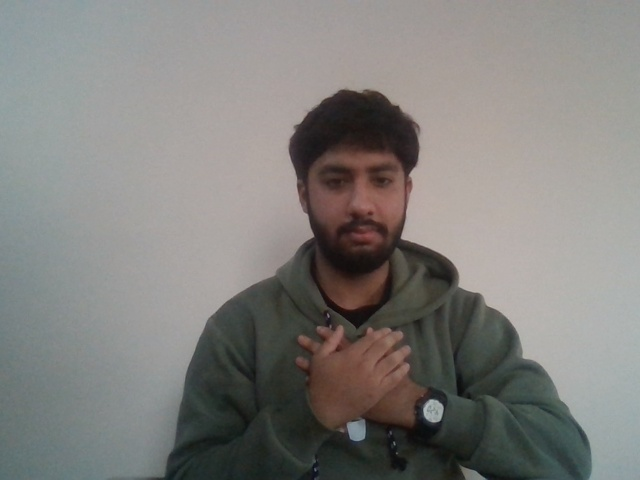Please: (280, 317, 425, 420)
